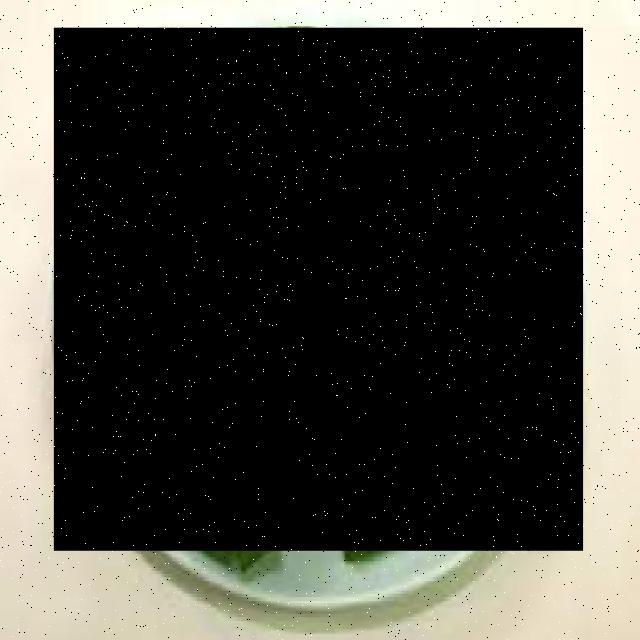Palungo: (54, 28, 584, 550)
